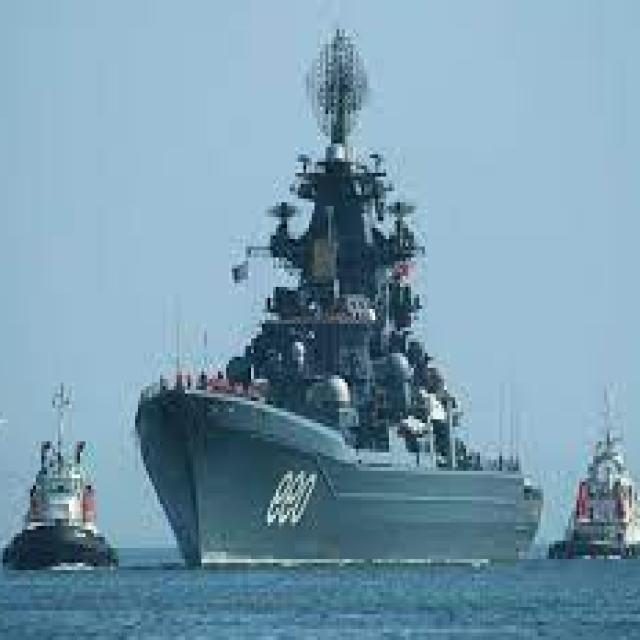navalvessels: (149, 46, 544, 585), (0, 386, 127, 563), (566, 393, 640, 562)
